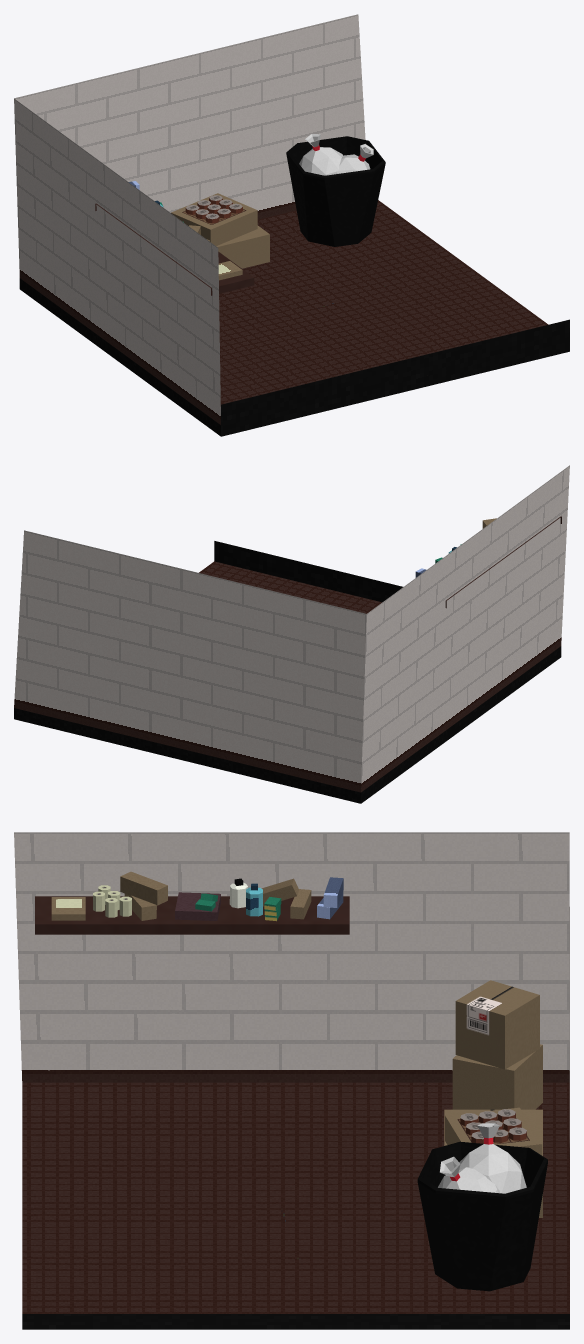
File: gasStationEMP.glb
3 views of the same model, one above another, from view 1: azimuth 30°, elevation 25°; view 2: azimuth 150°, elevation 25°; view 3: azimuth 270°, elevation 25° (orthographic). The views are drawn at different scales.
Parts seen in each view (by area): view 1: room-col, trashCan-col, drinks-col, trash-col, boxLong-col, shelf-col; view 2: room-col; view 3: room-col, trashCan-col, leftItems-col.001, shelf-col, box2-col, box1-col, trash-col, drinks-col, boxLong-col.
Part boxes in pixels (x1,y1,x2,y2): room-col: (14,14,569,436); trashCan-col: (286,136,385,246); drinks-col: (171,193,257,245); trash-col: (299,134,373,175); boxLong-col: (216,225,269,268); shelf-col: (95,203,254,295); room-col: (14,465,569,803); room-col: (14,832,569,1329); trashCan-col: (417,1141,547,1291); leftItems-col.001: (51,871,343,921); shelf-col: (35,896,349,934); box2-col: (455,980,539,1069); box1-col: (452,1044,542,1109); trash-col: (438,1123,526,1193); drinks-col: (445,1107,542,1155); boxLong-col: (444,1109,542,1217).
Size of the model in its own units: 4.99 by 2.59 by 4.98.
Materials: 9 (9 with a texture image).
